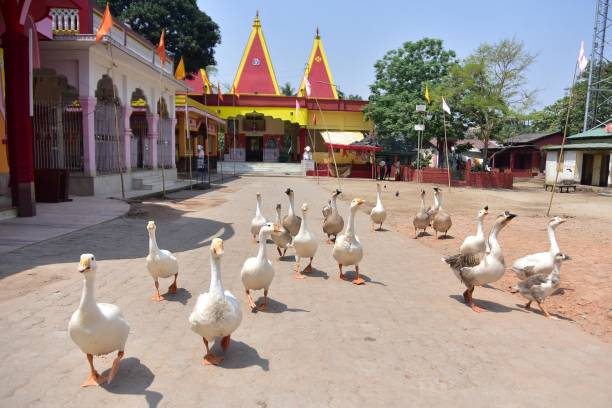goose: (62, 245, 136, 404), (442, 208, 519, 308), (188, 233, 243, 361), (518, 250, 577, 318), (139, 215, 186, 300), (328, 194, 369, 291), (240, 221, 281, 314), (516, 215, 572, 274), (458, 202, 494, 258), (293, 201, 318, 277), (320, 183, 348, 239), (428, 185, 457, 237), (273, 202, 294, 263), (284, 184, 301, 250), (247, 191, 269, 241), (369, 178, 387, 230), (414, 183, 429, 240)
